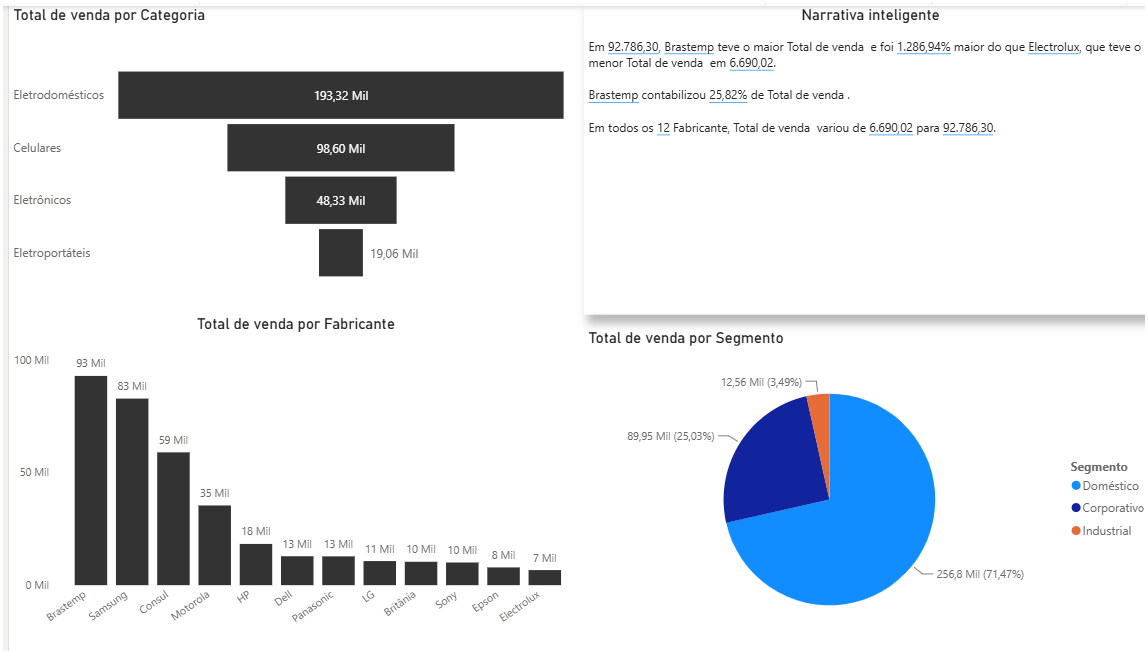

The page's visual inventory and layout, read from the dashboard file:
{"tool":"powerbi","page":{"name":"Narrativa inteligente ","canvas":[1280,720],"ordinal":1},"visuals":[{"type":"columnChart","fields":{"Y":["Sum(Vendas.ValorVenda)"],"Category":["Vendas.Fabricante"]},"box":[0,344.4,639.5,366.4],"z":0},{"type":"pieChart","fields":{"Y":["Sum(Vendas.ValorVenda)"],"Category":["Vendas.Segmento"]},"box":[640.8,359.4,639.4,351.1],"z":1000},{"type":"funnel","fields":{"Y":["Sum(Vendas.ValorVenda)"],"Category":["Vendas.Categoria"]},"box":[0,0,628.3,344.1],"z":2000},{"type":"textbox","title":"Narrativa inteligente","box":[641,0,639,344],"z":3000}]}

Visuals, with their boxes in screenshot pixels (x1, y1, x2, y2), scaled from the page's 1280x720 canvas onto the 1148x654 screenshot:
columnChart - Sum(Vendas.ValorVenda) x Vendas.Fabricante: (x1=0, y1=313, x2=574, y2=646)
pieChart - Sum(Vendas.ValorVenda) x Vendas.Segmento: (x1=575, y1=326, x2=1147, y2=645)
funnel - Sum(Vendas.ValorVenda) x Vendas.Categoria: (x1=0, y1=0, x2=564, y2=313)
"Narrativa inteligente" textbox: (x1=575, y1=0, x2=1147, y2=312)
